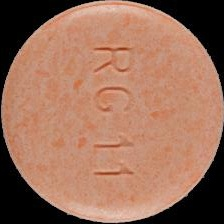60760-118: (0, 0, 224, 224)
